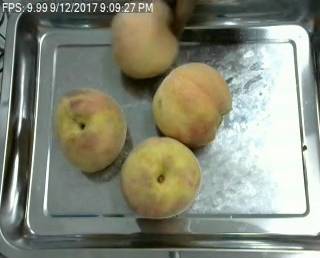Peach: (119, 135, 202, 218), (151, 61, 232, 146), (53, 86, 128, 171), (110, 2, 179, 78)
